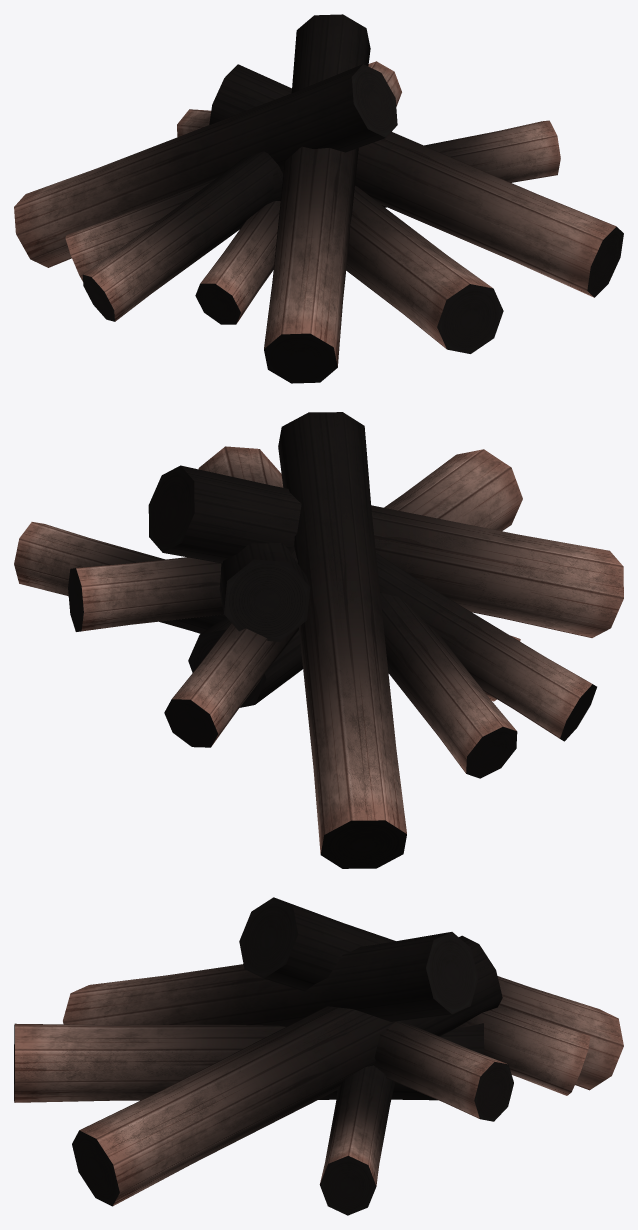
Rendered from bonfire.FBX.
3 views of the same model, one above another, from view 1: azimuth 30°, elevation 25°; view 2: azimuth 150°, elevation 25°; view 3: azimuth 270°, elevation 25° (orthographic). The views are drawn at different scales.
Visible parts, largest first — view 1: Cylinder034; view 2: Cylinder034; view 3: Cylinder034.
Boxes of the visible parts, bbox=[...] form: Cylinder034: bbox=[14, 14, 623, 383]; Cylinder034: bbox=[14, 412, 623, 868]; Cylinder034: bbox=[14, 897, 623, 1215].
Size of the model in its own units: 2.47 by 1.26 by 2.56.
